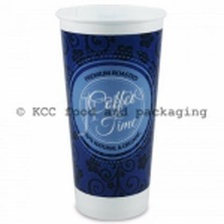paper_cup: (50, 0, 171, 224)
